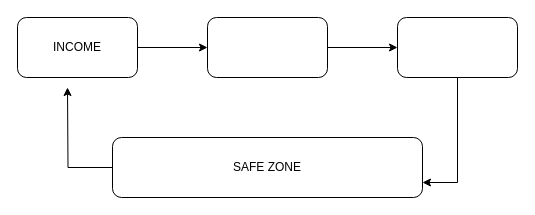
Image size: 535x215. Some labels were removed from this diagram. Here are the shapes that lost their labels. From the top down, the centre of each, then its label:
At point (267, 47): "SAVINGS".
At point (457, 47): "MULTIPLIER".
